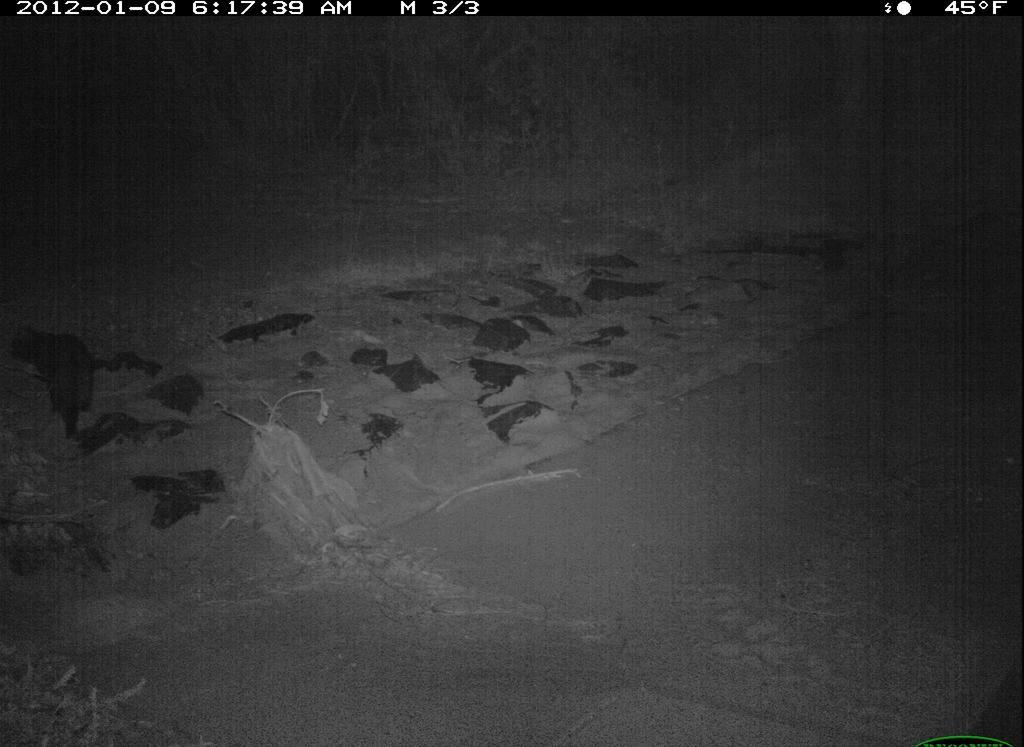cat: (8, 310, 105, 441)
